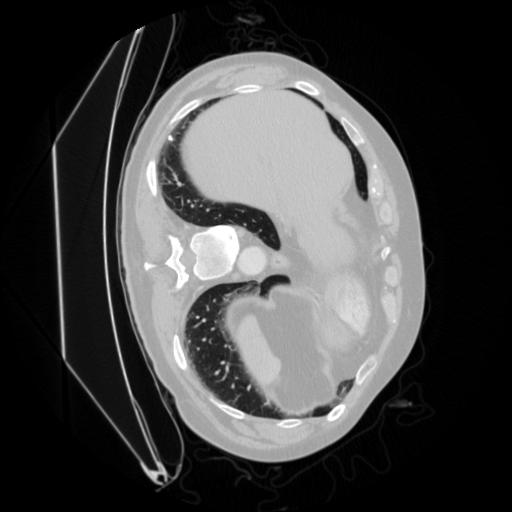nodule: (165, 133, 176, 144)
